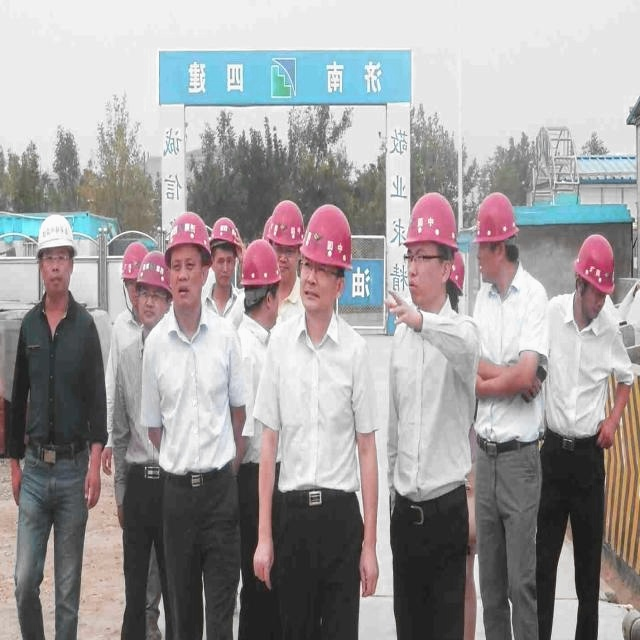Con_Casco: (473, 191, 520, 283), (35, 214, 77, 301)
Sin_Chaleco: (266, 313, 366, 505), (14, 300, 105, 472), (144, 307, 235, 472)
